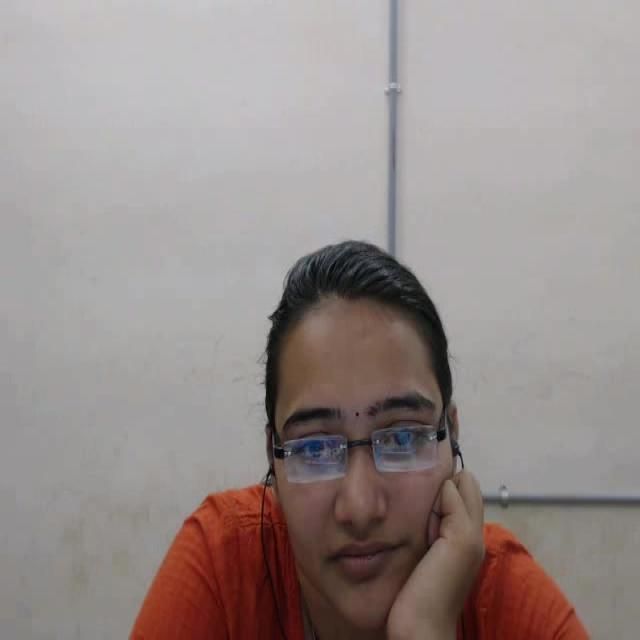Bored: (181, 187, 534, 640)
